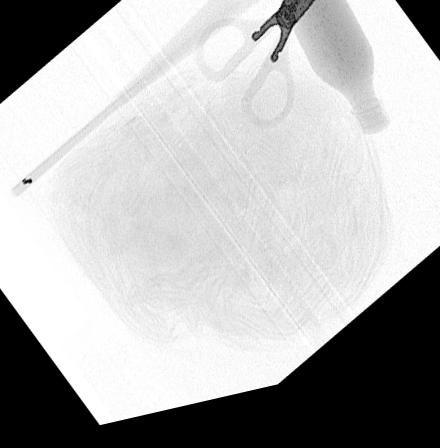Scissors: (194, 0, 326, 141)
